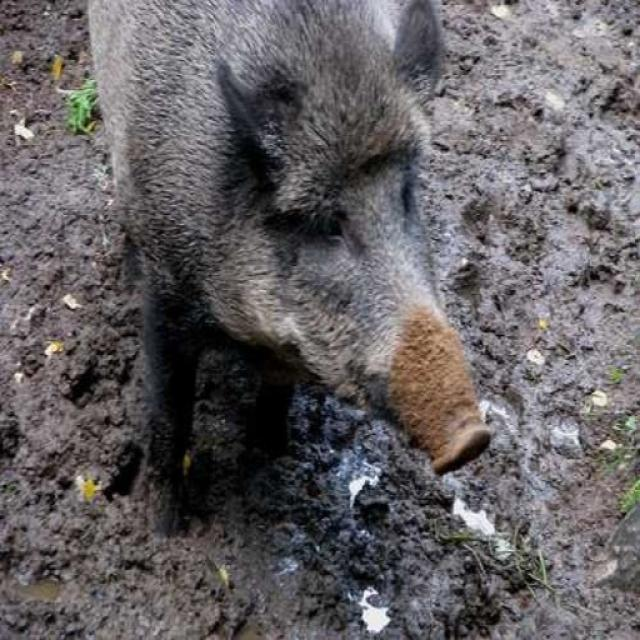pig: (64, 0, 559, 541)
